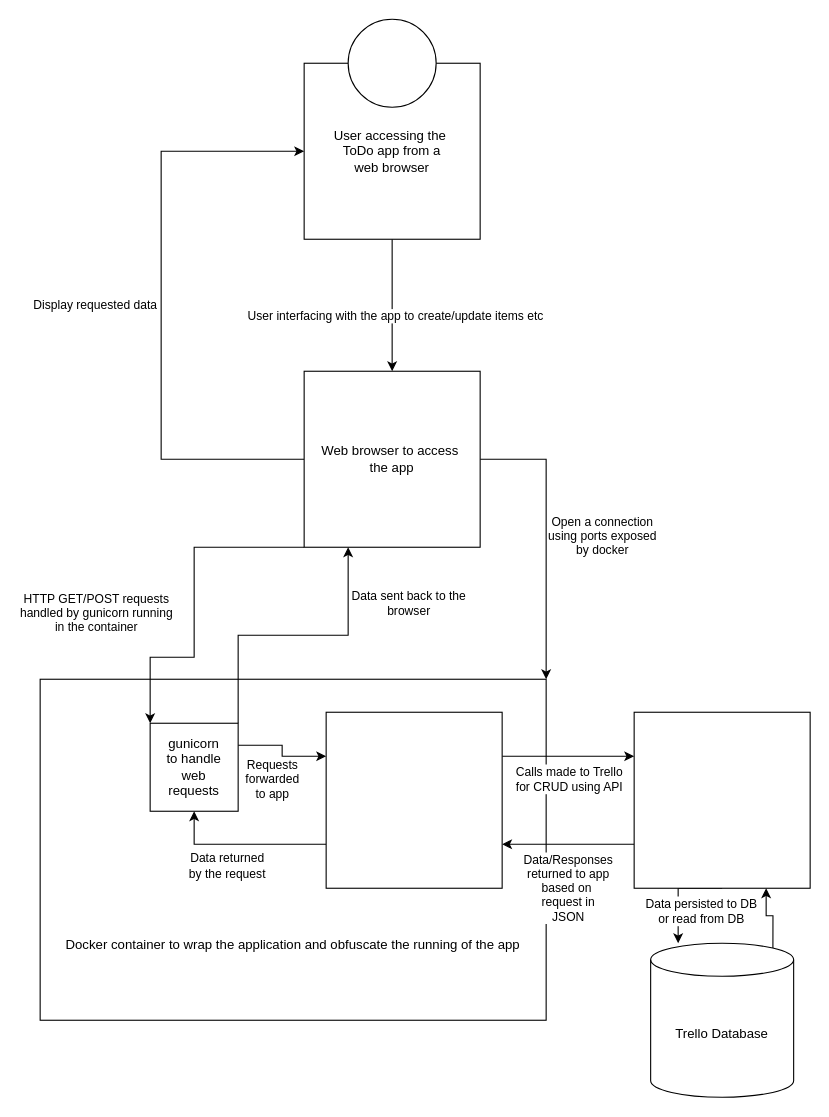
Some shapes in this 829 by 1117 pixel diagram are drawn without their labels. The centre of each missing label's shape, as x and y in pixels:
Trello Service: [721,799]
Web application to handle the ToDo app functionality: [413,799]
